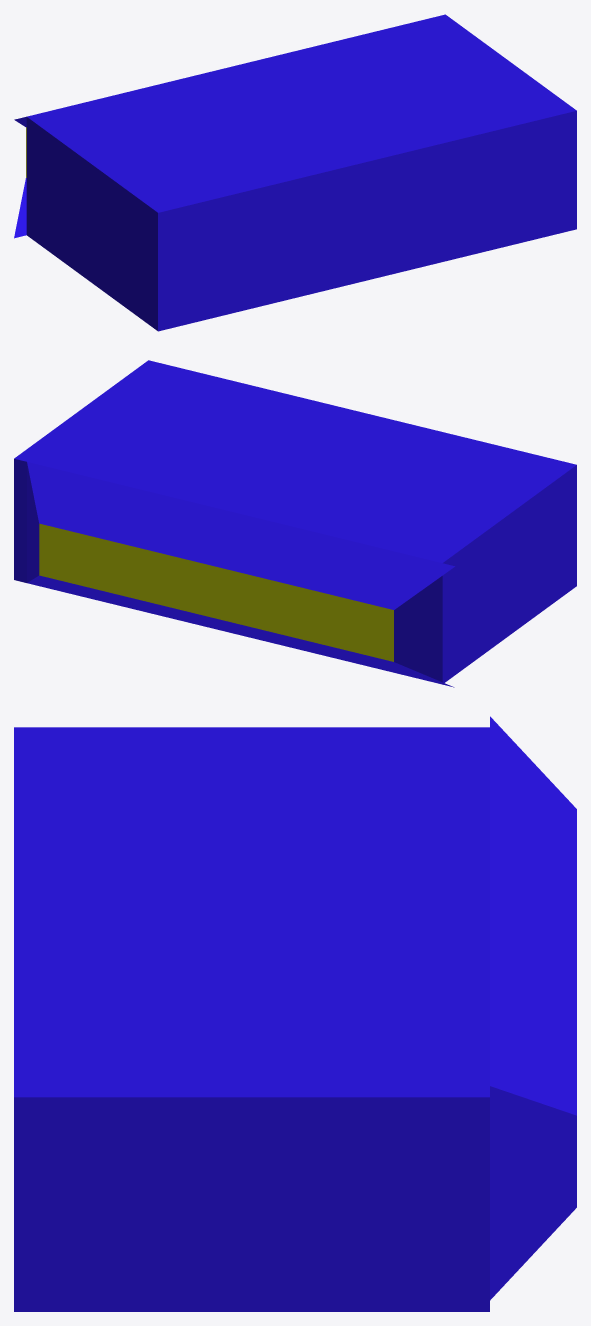
Rendered from maze_wall_prefab.fbx.
3 renders of one model, top to bottom at view 1: azimuth 30°, elevation 25°; view 2: azimuth 150°, elevation 25°; view 3: azimuth 270°, elevation 25°, orthographic. The views are drawn at different scales.
Parts seen in each view (by area): view 1: maze_wall_prefab; view 2: maze_wall_prefab; view 3: maze_wall_prefab.
Boxes of the visible parts, x1,y1,x2,y2 form: maze_wall_prefab: (14, 14, 576, 331); maze_wall_prefab: (14, 360, 576, 687); maze_wall_prefab: (14, 716, 576, 1311).
Size of the model in its own units: 315 by 82.65 by 196.
